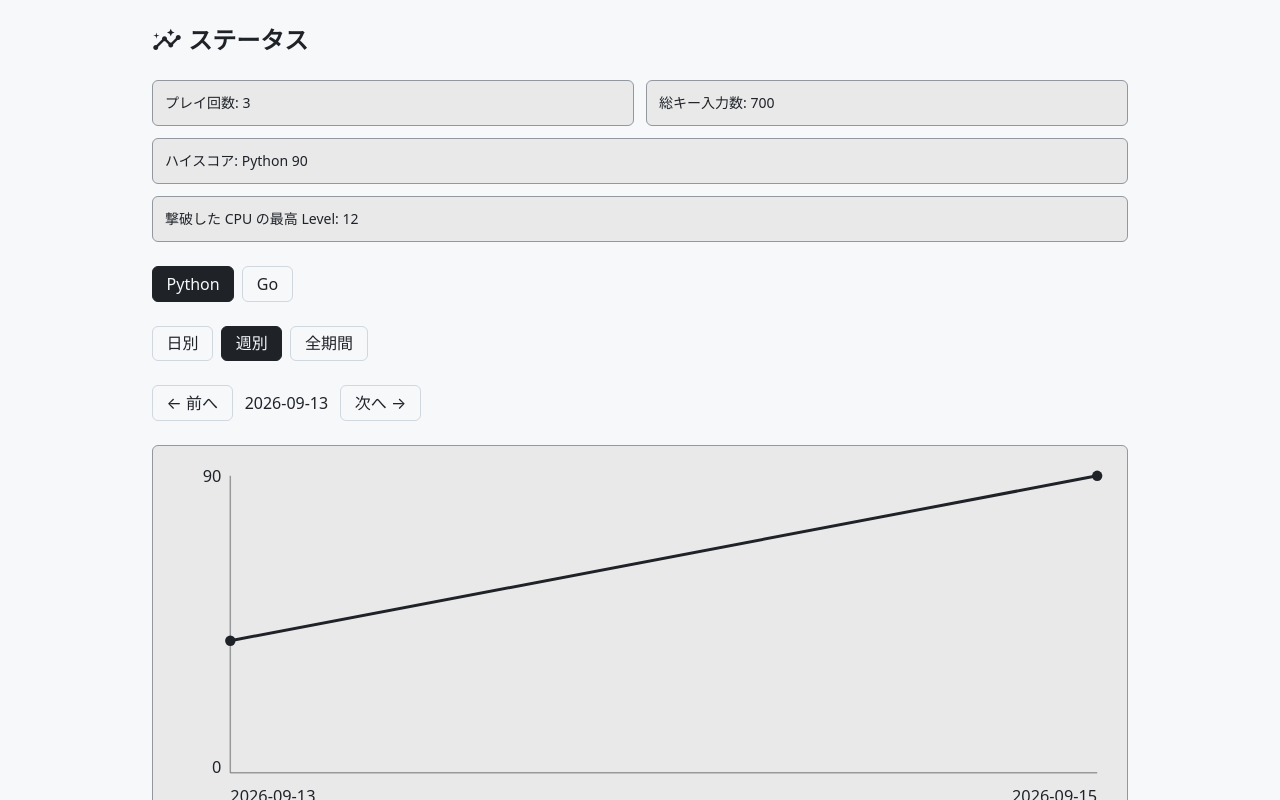
Test: the dashboard screen in Japanese › reads in Japanese: summary, periods, ranges, and the chart
Expected: the heading "ステータス" is shown, [152, 24, 308, 56]
Expected: the text "プレイ回数: 3" is shown, [152, 80, 634, 126]
Click the button "全期間" at (329, 343), box [290, 326, 368, 361]
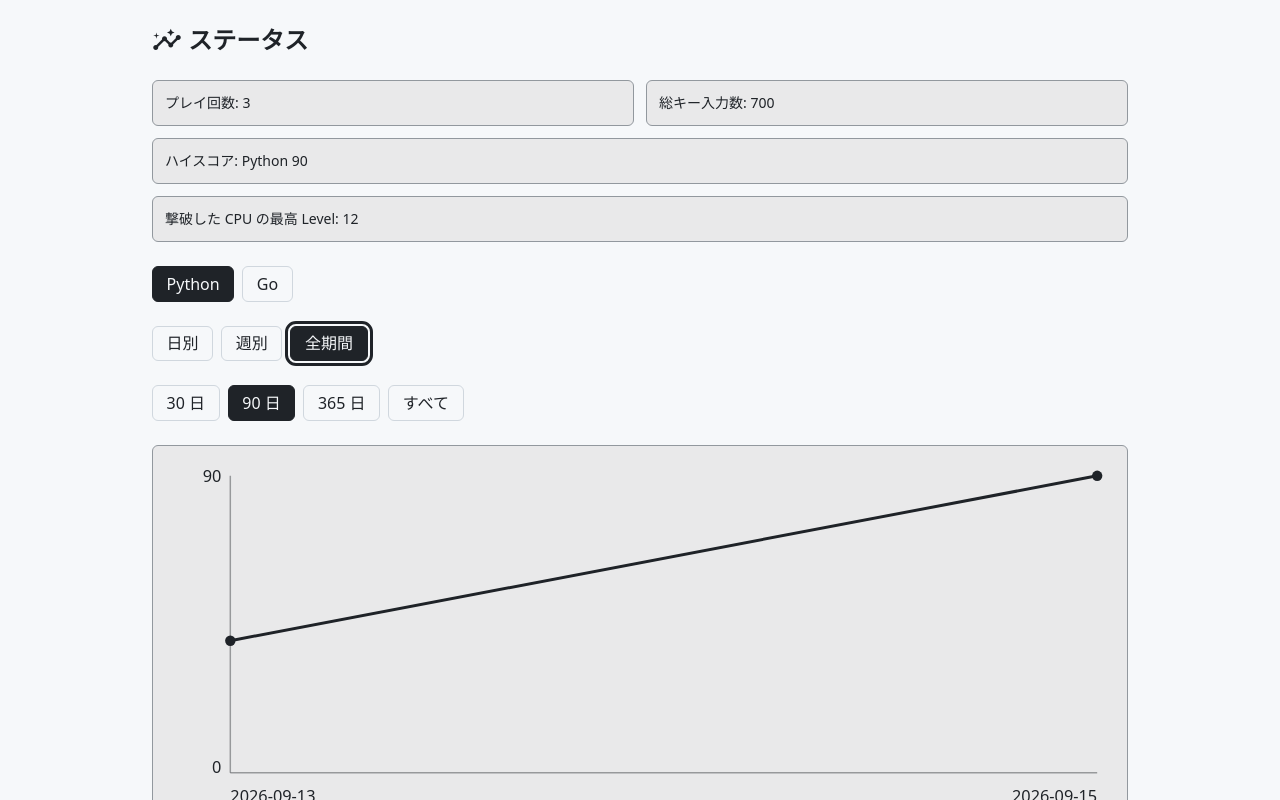
Expected: the buttons read "30 日", "90 日", "365 日", "すべて", in this order, [152, 385, 220, 421]; [228, 385, 295, 421]; [303, 385, 380, 421]; [388, 385, 464, 421]
